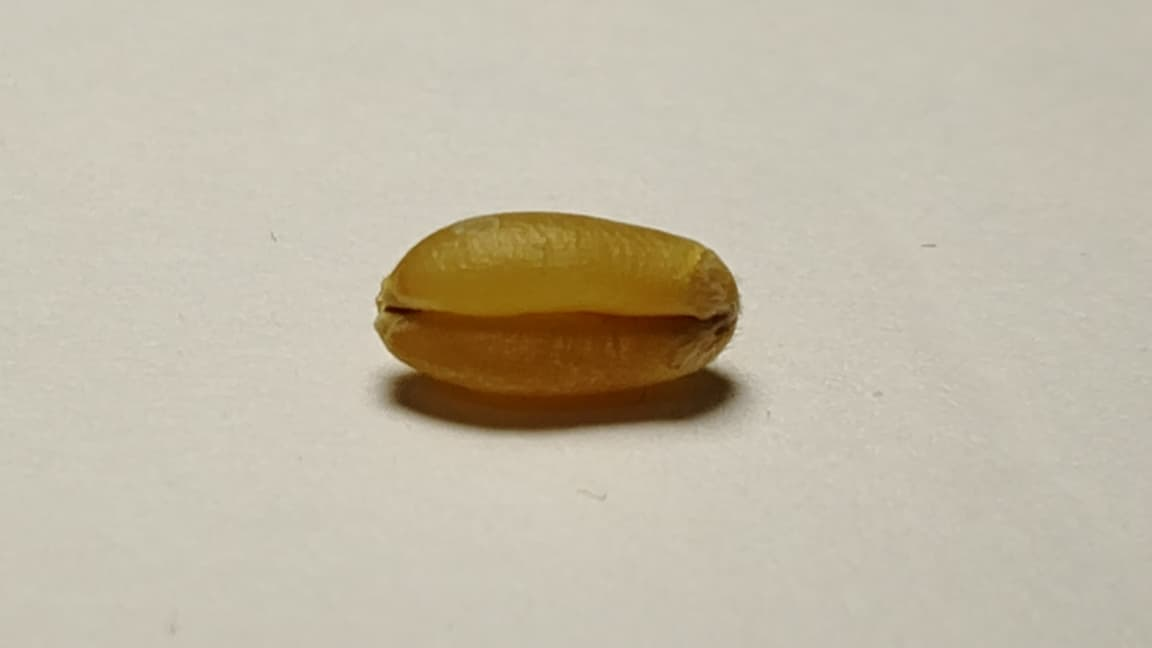healthy: (375, 211, 737, 401)
